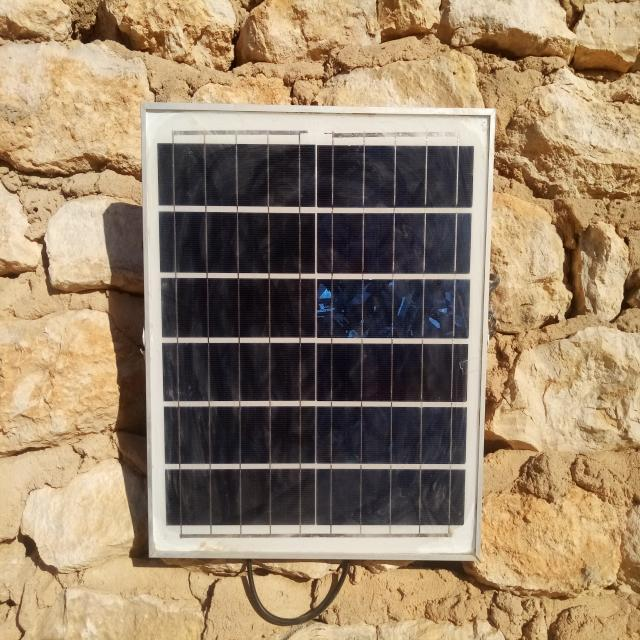faulty: (143, 107, 492, 564)
